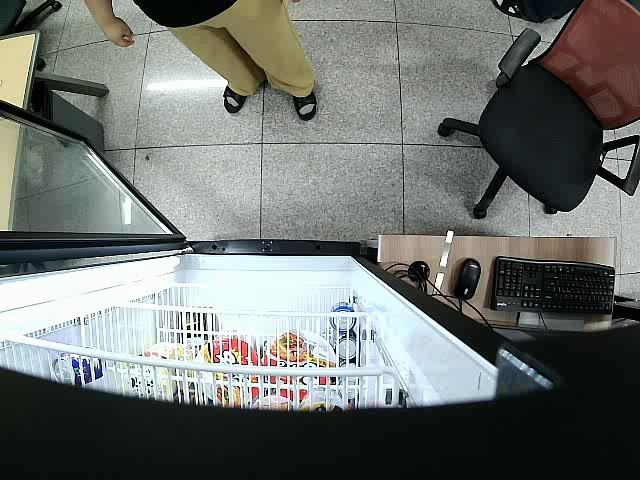00_hand: (100, 18, 137, 49)
